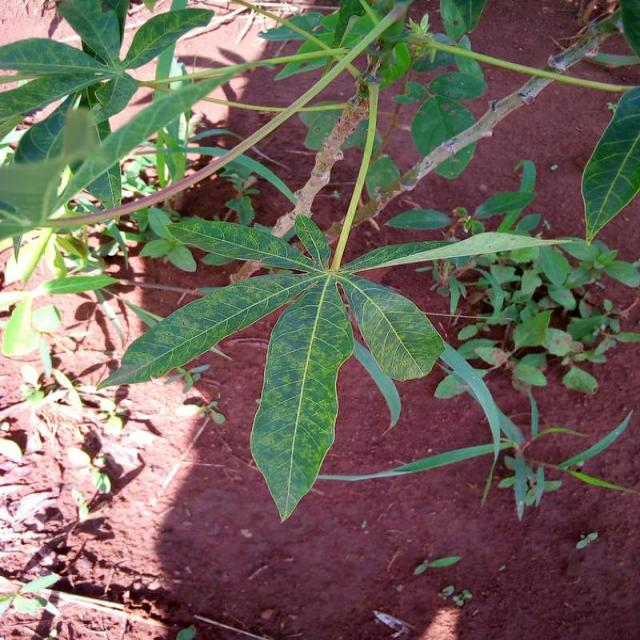cassava leaf: (249, 274, 354, 522), (580, 84, 639, 246)
